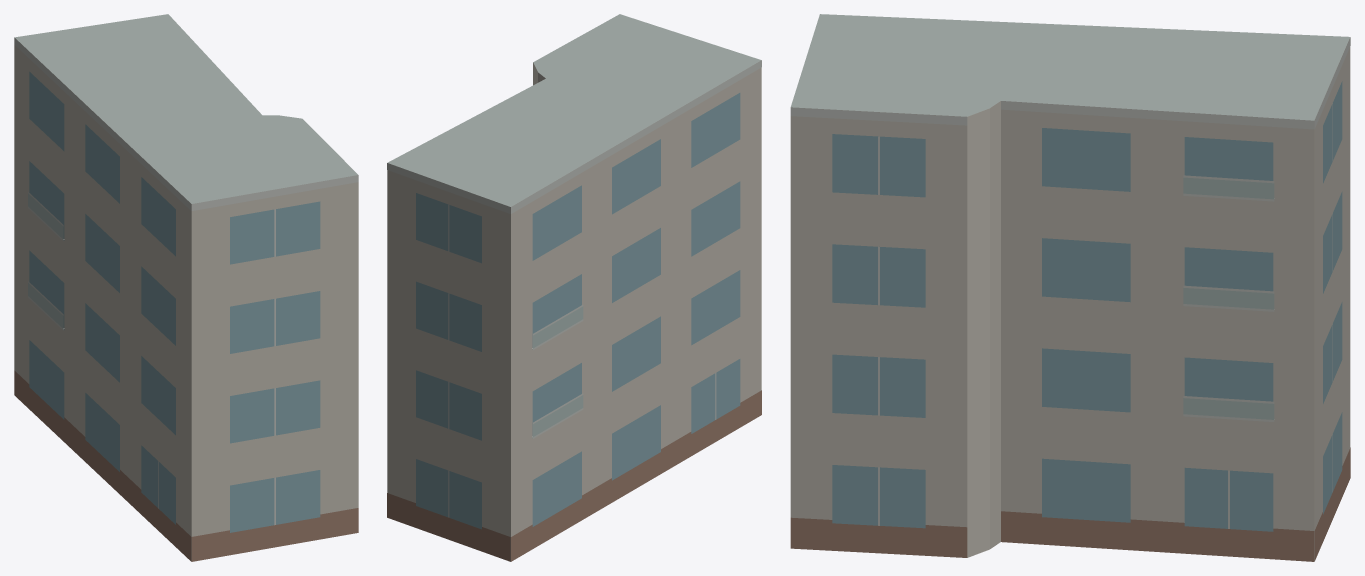
File: survey-upis-32990739.glb
3 renders of one model, left to right at view 1: azimuth 30°, elevation 25°; view 2: azimuth 150°, elevation 25°; view 3: azimuth 270°, elevation 25°, orthographic. The views are drawn at different scales.
Parts seen in each view (by area): view 1: survey-upis-32990739.tmp; view 2: survey-upis-32990739.tmp; view 3: survey-upis-32990739.tmp.
Boxes of the visible parts, x1,y1,x2,y2 form: survey-upis-32990739.tmp: [14, 14, 358, 561]; survey-upis-32990739.tmp: [387, 14, 761, 561]; survey-upis-32990739.tmp: [790, 14, 1350, 561].
Bounding box in the file's own units: 6.34 × 12.2 × 14.04.
